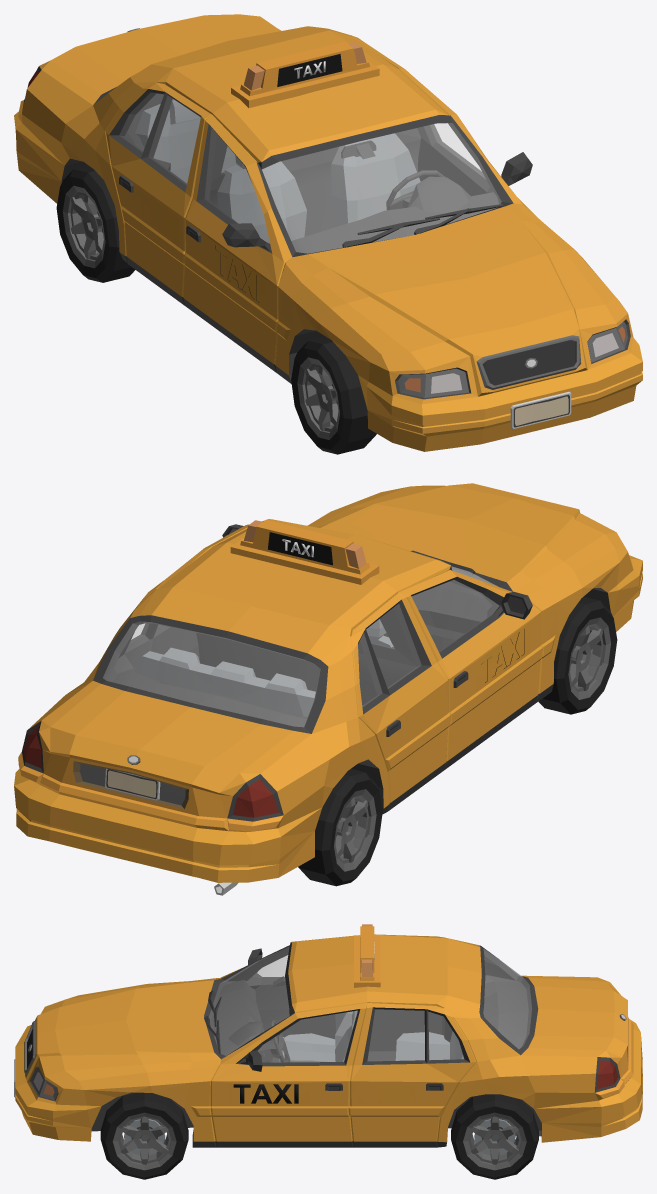
Rendered from sedan-taxi.glb.
The picture shows the model from 3 angles, top to bottom: view 1: azimuth 30°, elevation 25°; view 2: azimuth 150°, elevation 25°; view 3: azimuth 270°, elevation 25°; orthographic projection. The views are drawn at different scales.
Visible parts, largest first — view 1: sedan-taxi; view 2: sedan-taxi; view 3: sedan-taxi.
Part boxes in pixels (bbox=[...]): sedan-taxi: bbox=[14, 14, 642, 454]; sedan-taxi: bbox=[14, 483, 642, 895]; sedan-taxi: bbox=[14, 924, 642, 1179].
Bounding box in the file's own units: 2.17 × 1.72 × 5.18.
Materials: 2 (1 with a texture image).
